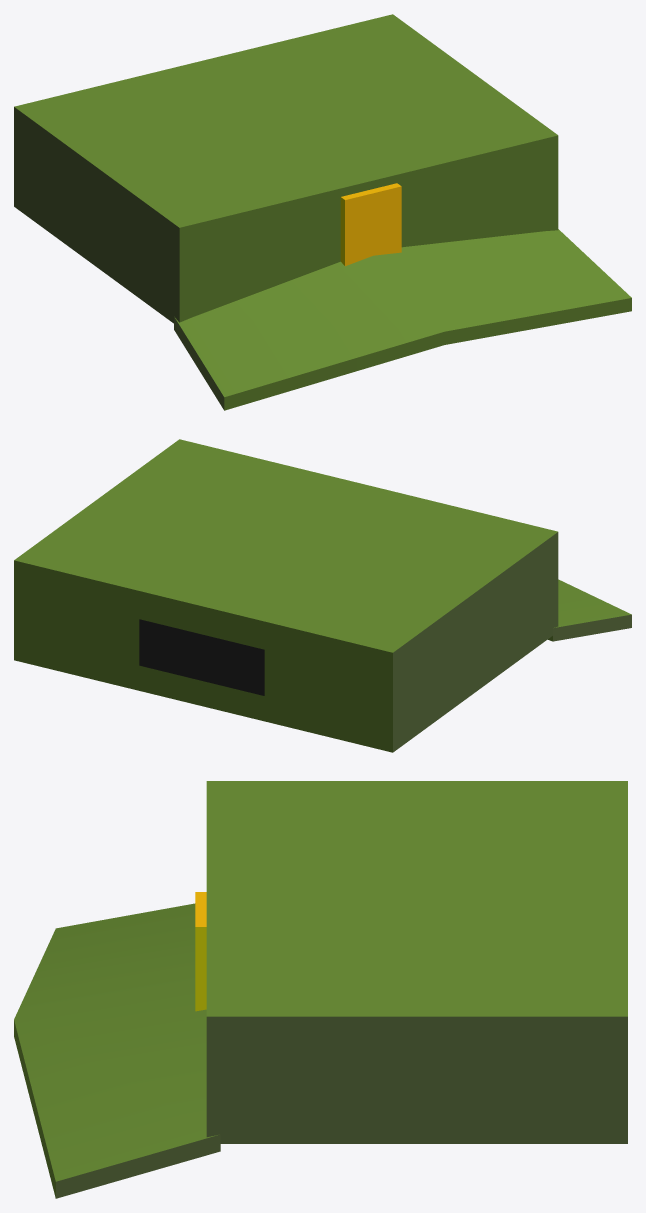
Rendered from Item_HatBaseball04.FBX.
3 renders of one model, top to bottom at view 1: azimuth 30°, elevation 25°; view 2: azimuth 150°, elevation 25°; view 3: azimuth 270°, elevation 25°, orthographic. The views are drawn at different scales.
Visible parts, largest first — view 1: Item_HatBaseball04; view 2: Item_HatBaseball04; view 3: Item_HatBaseball04.
Part boxes in pixels (left/top/right/bottom): Item_HatBaseball04: left=14, top=14, right=631, bottom=410; Item_HatBaseball04: left=14, top=439, right=631, bottom=752; Item_HatBaseball04: left=14, top=781, right=627, bottom=1198.
Bounding box in the file's own units: 44.9 × 14.32 × 46.28.
